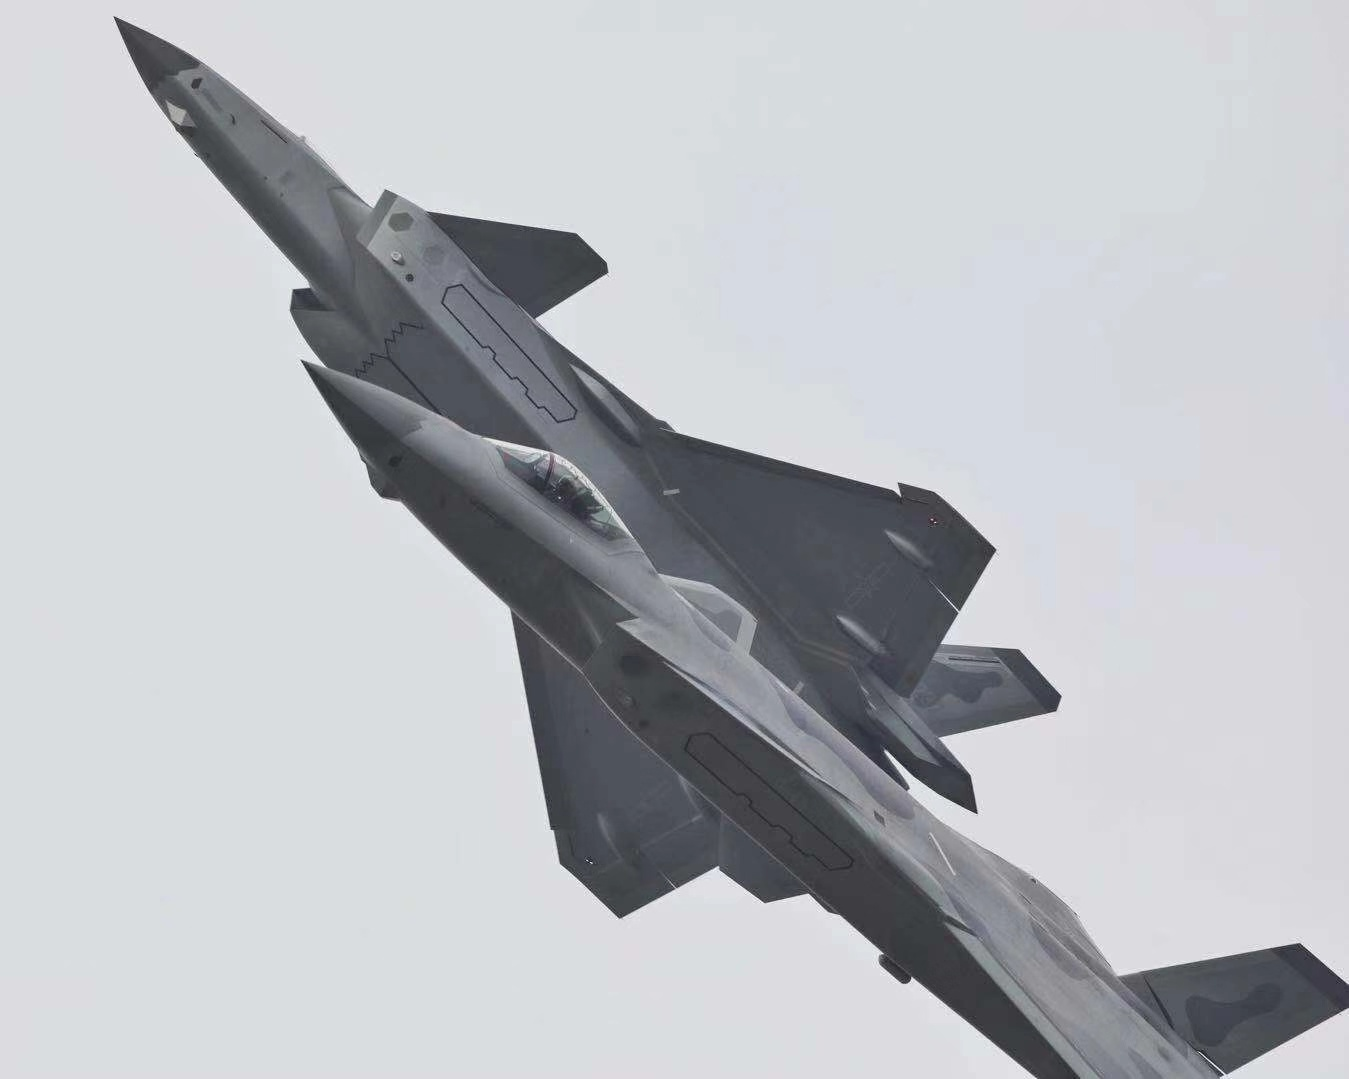J20: (112, 17, 1062, 919), (300, 359, 1349, 1079)
